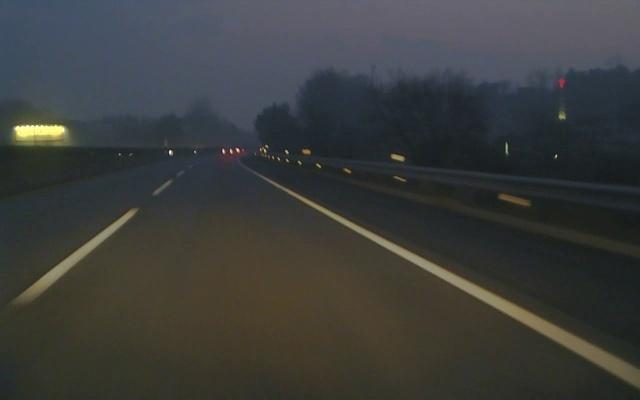lane: (250, 171, 640, 389), (15, 171, 184, 311)
